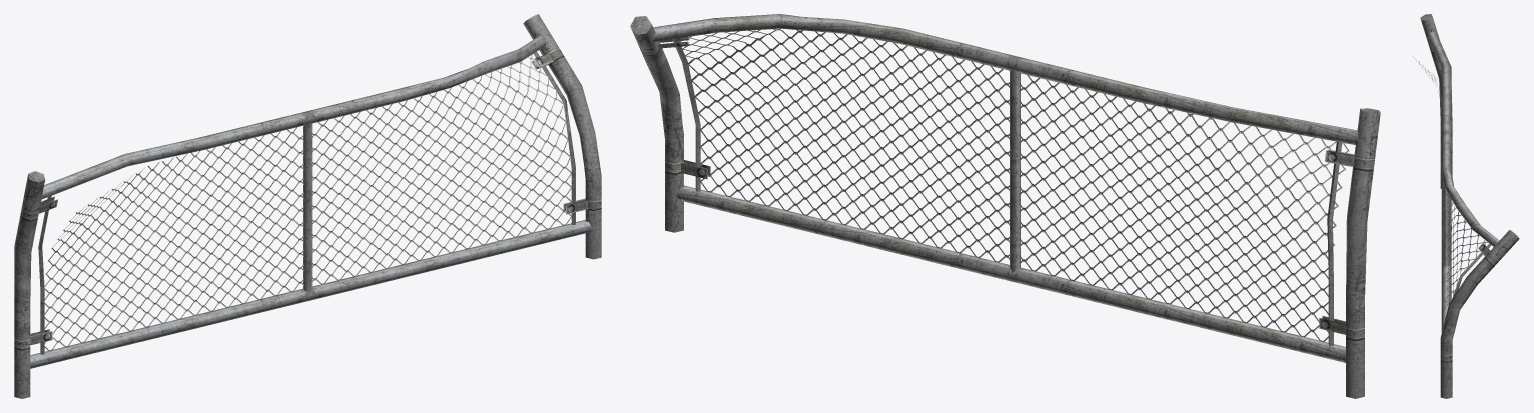
The model's file is fenceMetalLowC.FBX.
3 renders of one model, left to right at view 1: azimuth 30°, elevation 25°; view 2: azimuth 150°, elevation 25°; view 3: azimuth 270°, elevation 25°, orthographic. The views are drawn at different scales.
Visible parts, largest first — view 1: fenceMetalLowC; view 2: fenceMetalLowC; view 3: fenceMetalLowC.
Part boxes in pixels (left/top/right/bottom): fenceMetalLowC: left=14, top=14, right=601, bottom=398; fenceMetalLowC: left=630, top=14, right=1380, bottom=398; fenceMetalLowC: left=1412, top=14, right=1519, bottom=398.
Size of the model in its own units: 103 by 38.5 by 22.42.
